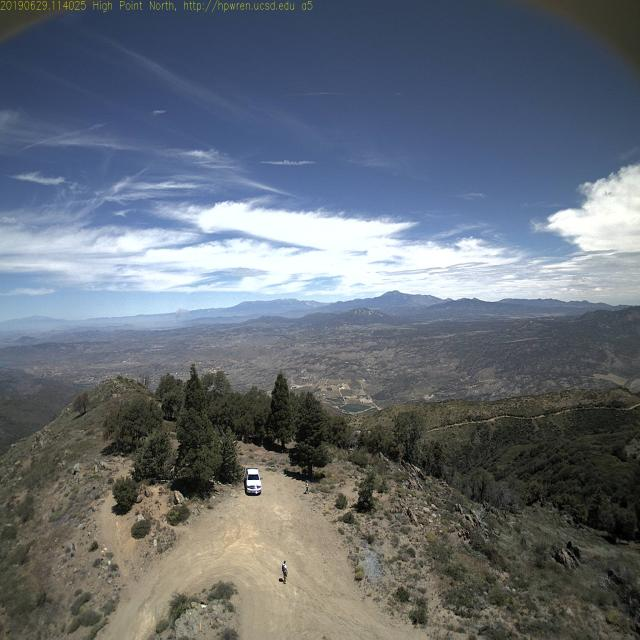smoke: (167, 302, 196, 332)
